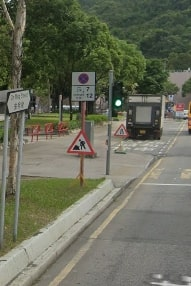Start Of No Stopping: (71, 70, 95, 103)
